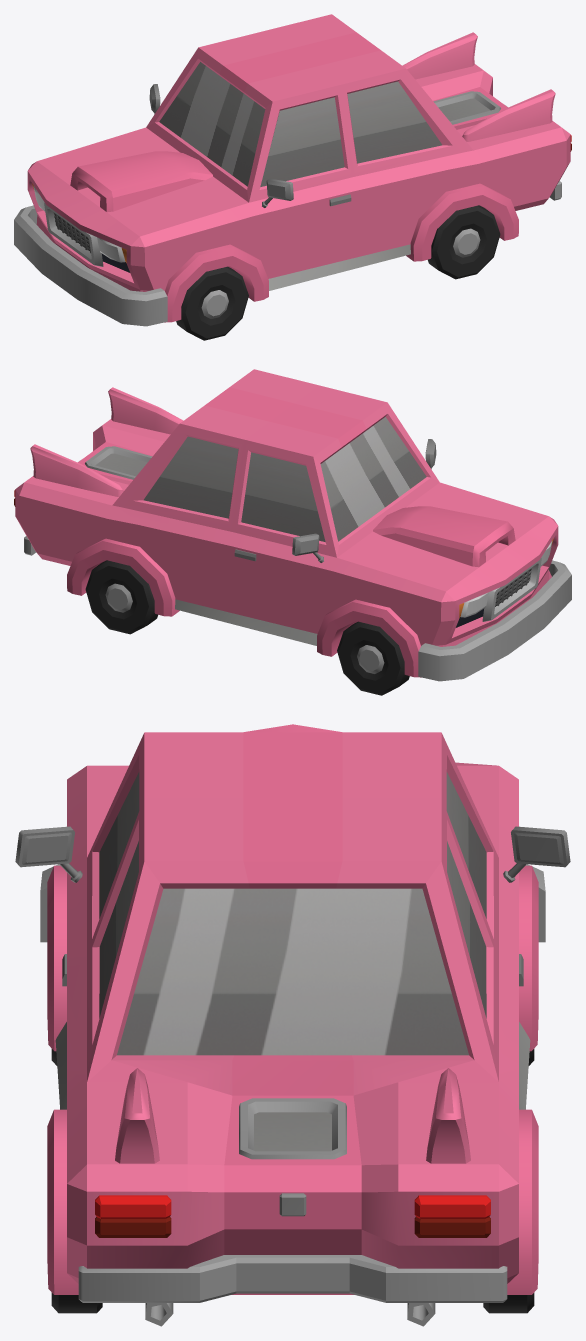
Rendered from Car_10_J.fbx.
3 views of the same model, one above another, from view 1: azimuth 30°, elevation 25°; view 2: azimuth 150°, elevation 25°; view 3: azimuth 270°, elevation 25° (orthographic). The views are drawn at different scales.
Parts seen in each view (by area): view 1: Car_10_J, RL, FL; view 2: Car_10_J, RR, FR; view 3: Car_10_J, RL, RR.
Part boxes in pixels (bbox=[...]): Car_10_J: bbox=[14, 14, 571, 326]; RL: bbox=[428, 205, 500, 279]; FL: bbox=[176, 266, 248, 340]; Car_10_J: bbox=[14, 369, 571, 681]; RR: bbox=[85, 560, 157, 634]; FR: bbox=[337, 621, 409, 695]; Car_10_J: bbox=[15, 724, 570, 1326]; RL: bbox=[51, 1293, 102, 1313]; RR: bbox=[483, 1293, 534, 1313].
Bounding box in the file's own units: 3.58 × 1.49 × 1.85.
